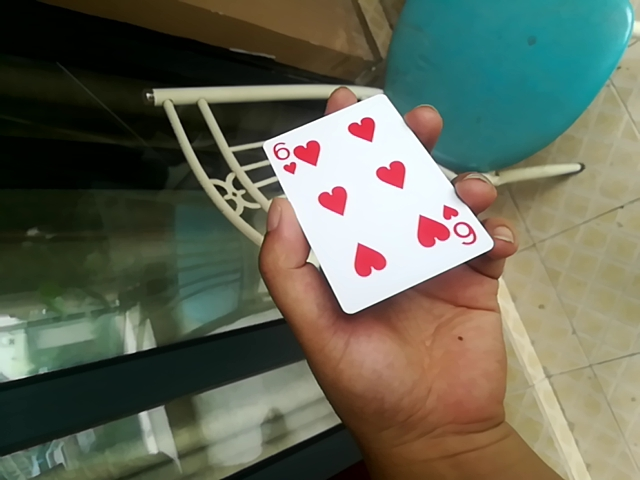hx 6: (255, 89, 490, 316)
